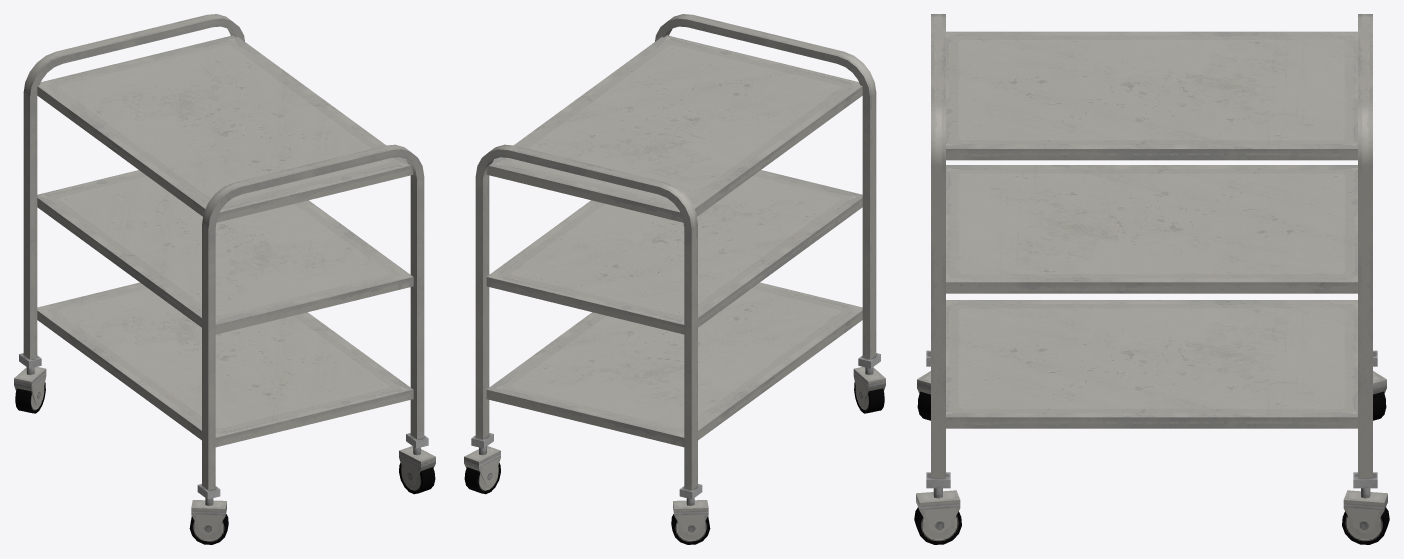
File: HH_Medical_Trolley.fbx
3 renders of one model, left to right at view 1: azimuth 30°, elevation 25°; view 2: azimuth 150°, elevation 25°; view 3: azimuth 270°, elevation 25°, orthographic. The views are drawn at different scales.
Parts seen in each view (by area): view 1: HH_Medical_Trolley_LOD0; view 2: HH_Medical_Trolley_LOD0; view 3: HH_Medical_Trolley_LOD0.
Boxes of the visible parts, x1,y1,x2,y2 form: HH_Medical_Trolley_LOD0: (14,14,435,544); HH_Medical_Trolley_LOD0: (464,14,885,544); HH_Medical_Trolley_LOD0: (914,14,1389,544).
Size of what is drawn, in the model's own units: 54.71 by 77.39 by 79.74.
